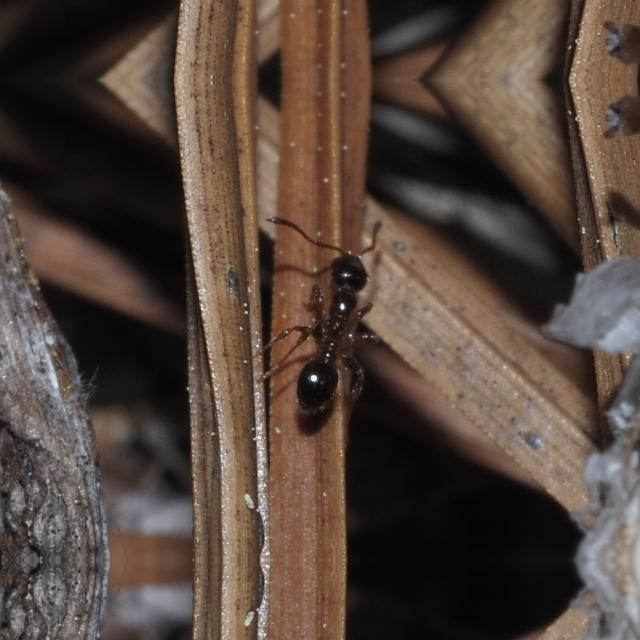Temnothorax: (256, 214, 412, 428)
